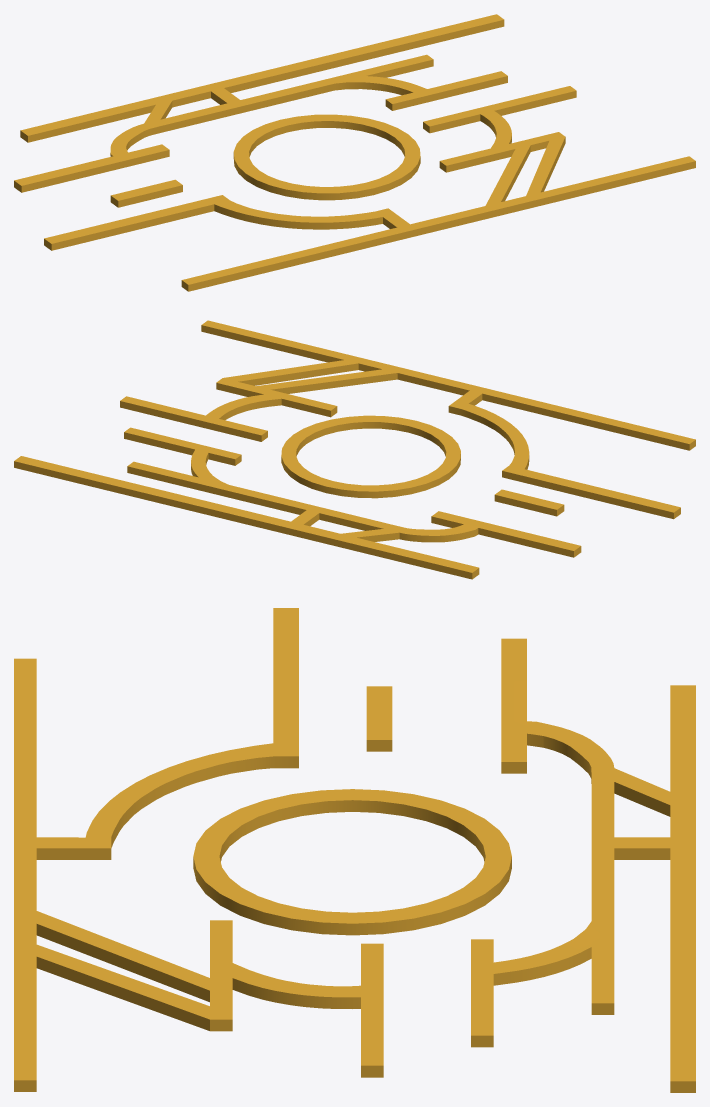
Rendered from DekorBig3.fbx.
3 views of the same model, one above another, from view 1: azimuth 30°, elevation 25°; view 2: azimuth 150°, elevation 25°; view 3: azimuth 270°, elevation 25° (orthographic). The views are drawn at different scales.
Visible parts, largest first — view 1: Dekor3; view 2: Dekor3; view 3: Dekor3.
Boxes of the visible parts, x1,y1,x2,y2 form: Dekor3: (14, 14, 695, 291); Dekor3: (14, 320, 695, 579); Dekor3: (14, 608, 695, 1092).
Bounding box in the file's own units: 287 × 3.36 × 175.
